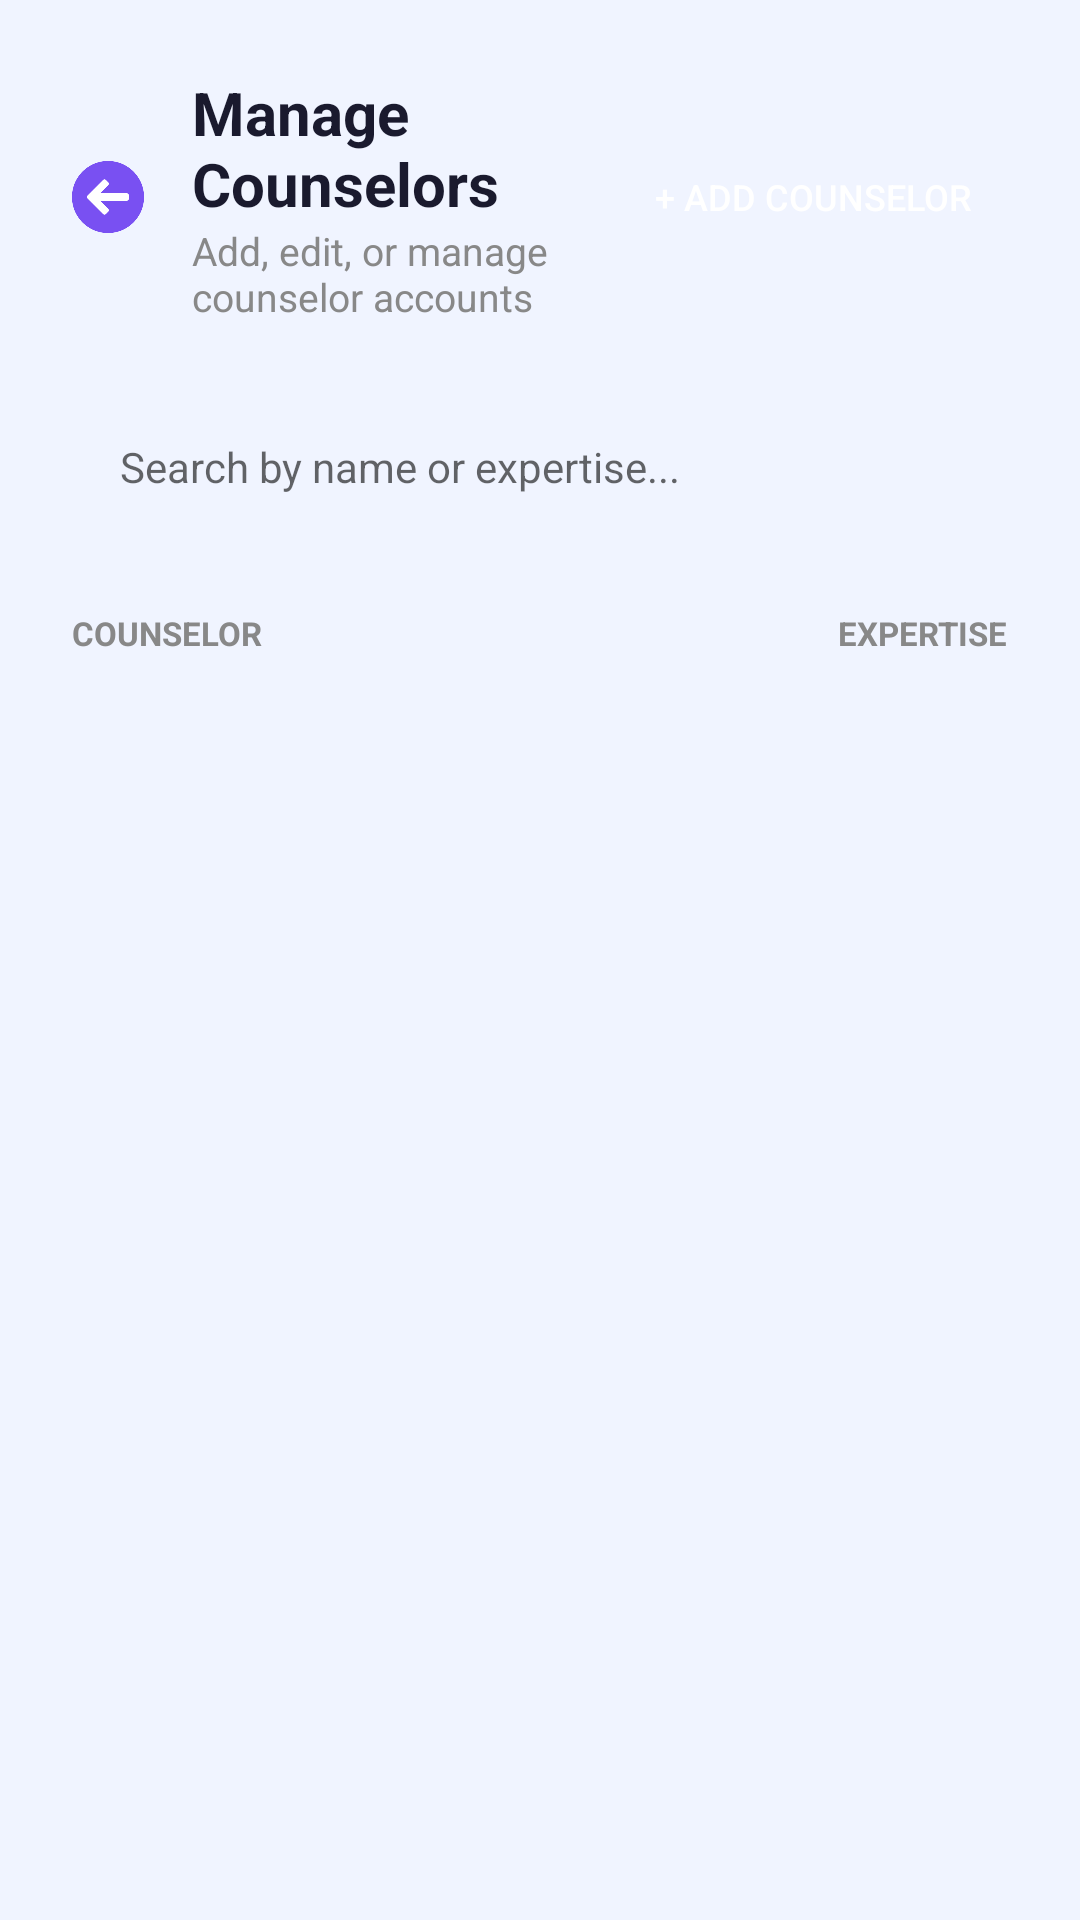

Icon click points for this 1080px x 1920px phone screenshot, format [x,y]:
back arrow: [108,197]
